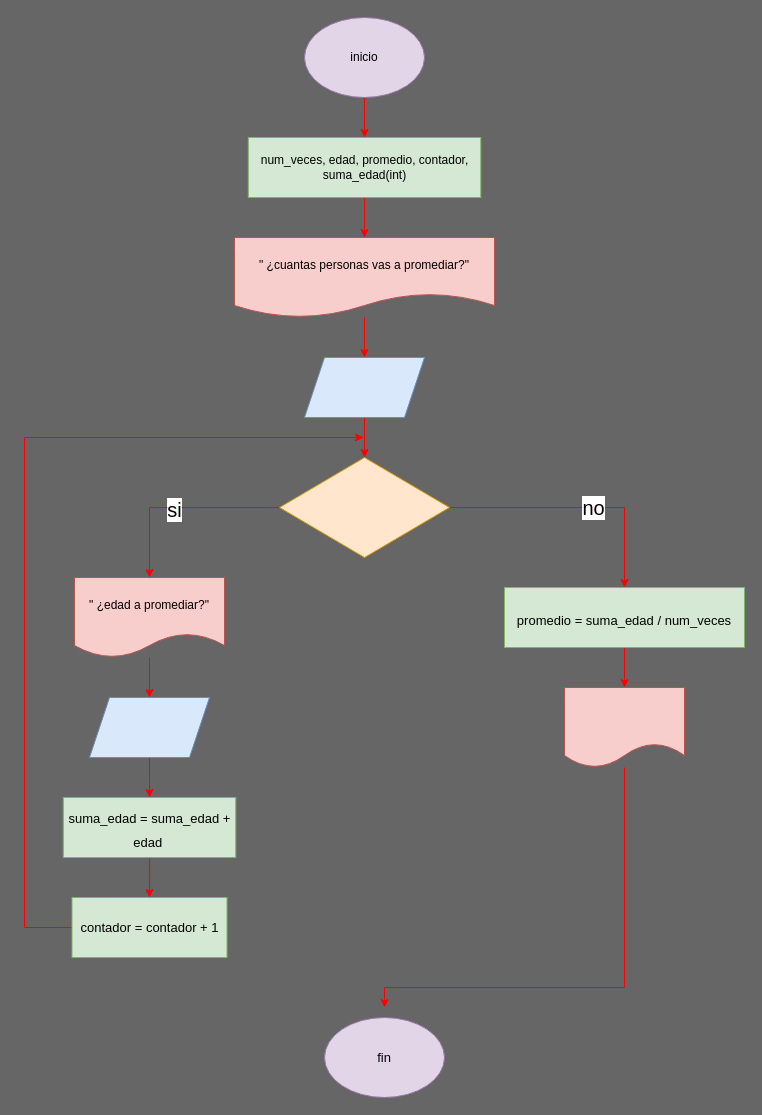
Image size: 762x1115. Some labels were removed from this diagram. The centre of each missing label's shape, as x and y in pixels:
"promedio": (624,727)
contador < num_veces: (364,507)
edad: (149,727)
num_veces: (364,387)
